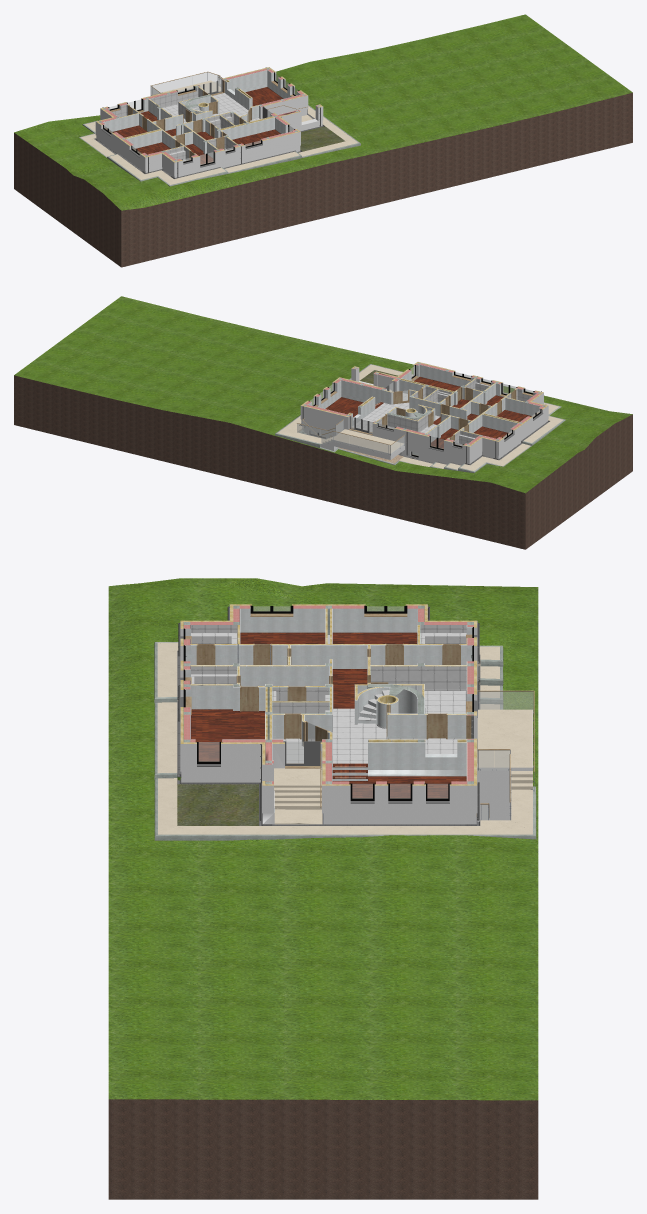
File: 02_00_CASA-BACAU_PARTER.glb
3 renders of one model, top to bottom at view 1: azimuth 30°, elevation 25°; view 2: azimuth 150°, elevation 25°; view 3: azimuth 270°, elevation 25°, orthographic. The views are drawn at different scales.
Visible parts, largest first — view 1: 2.PARTER; view 2: 2.PARTER; view 3: 2.PARTER.
Part boxes in pixels (x1=…): 2.PARTER: x1=14, y1=14, x2=632, y2=267; 2.PARTER: x1=14, y1=296, x2=632, y2=549; 2.PARTER: x1=108, y1=578, x2=538, y2=1199.
Bounding box in the file's own units: 55 × 7.65 × 20.
44 materials, 27 textured.
